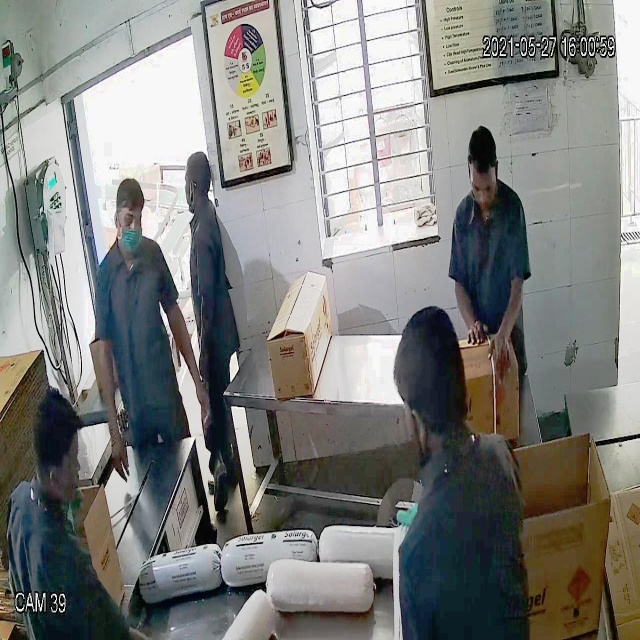Sin_gafas: (110, 204, 146, 235), (467, 172, 501, 201)
